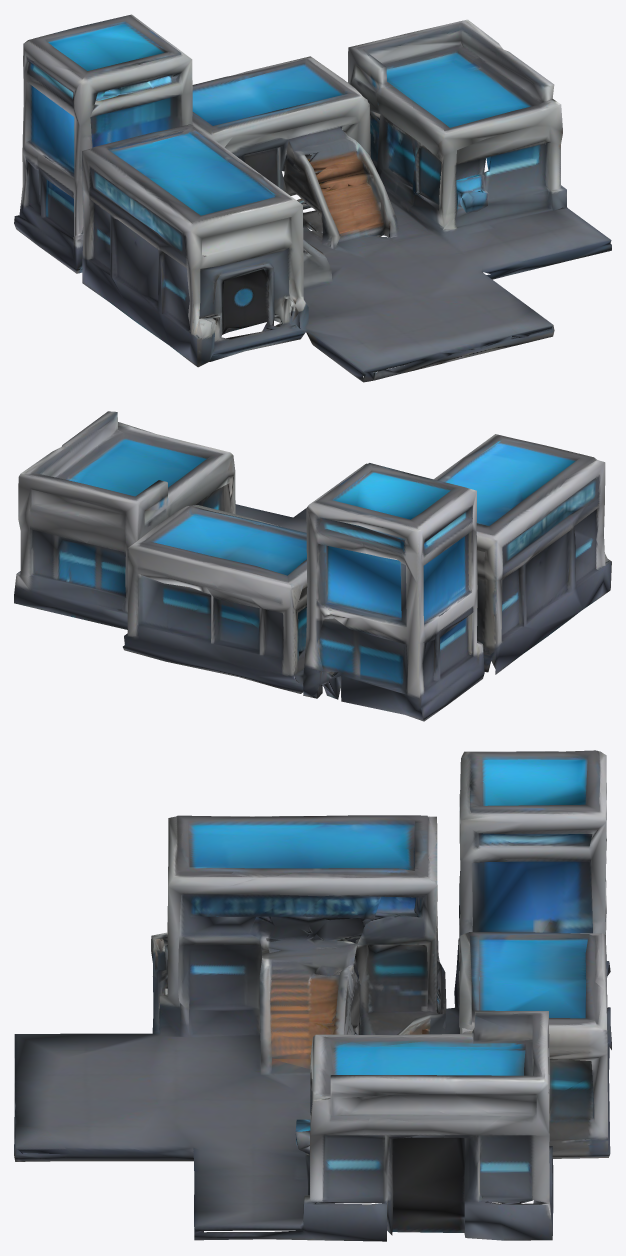
File: Aqua_Facility_0605200735_texture.glb
3 renders of one model, top to bottom at view 1: azimuth 30°, elevation 25°; view 2: azimuth 150°, elevation 25°; view 3: azimuth 270°, elevation 25°, orthographic. The views are drawn at different scales.
Size of the model in its own units: 2 by 0.8629 by 1.94.
1 material, 1 textured.
